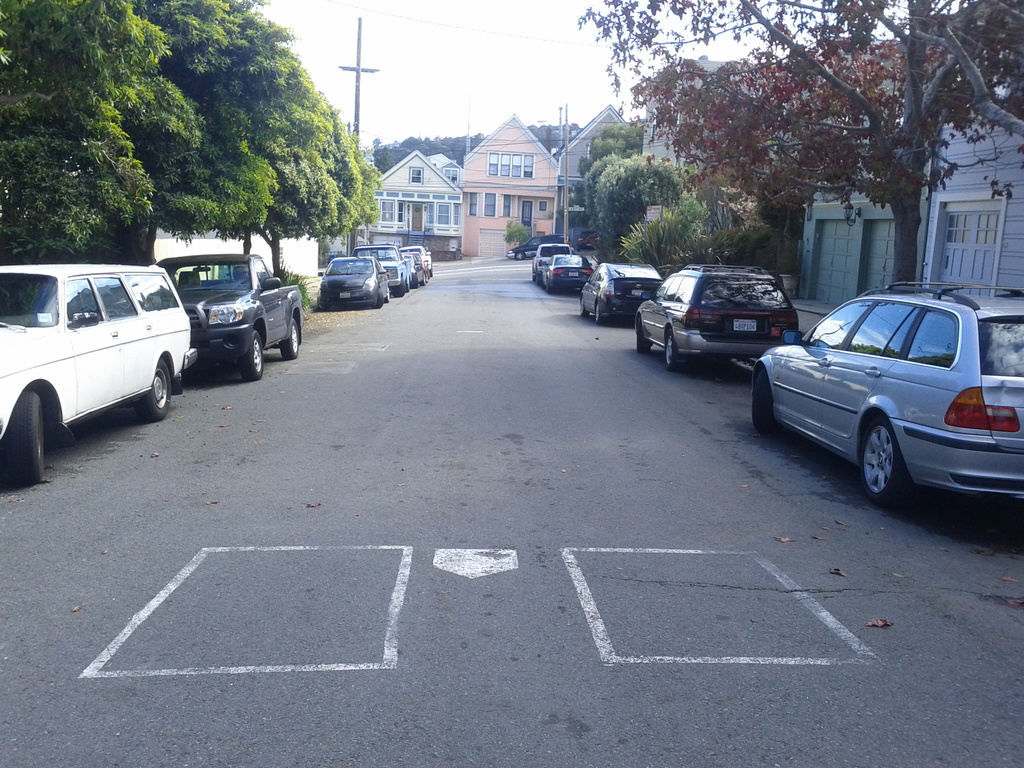Car: (531, 242, 1023, 505), (0, 264, 197, 487), (317, 241, 430, 306), (506, 233, 570, 261), (576, 231, 601, 252)
